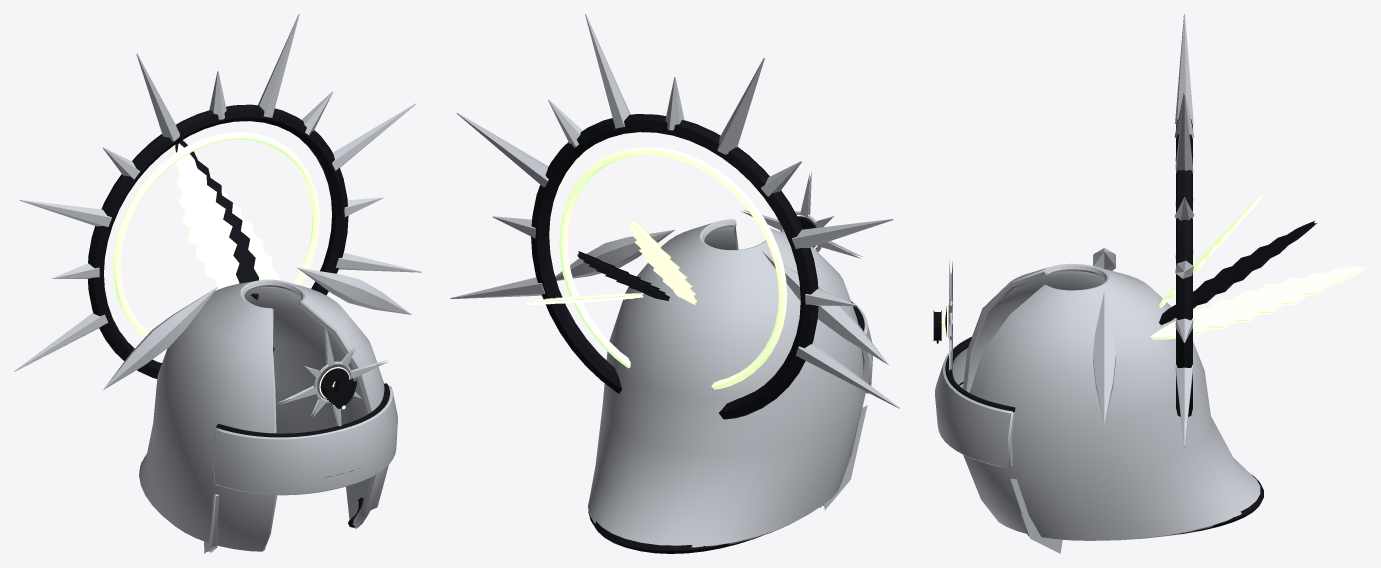
Rendered from esc_endtime_stalker_helm.glb.
The picture shows the model from 3 angles, left to right: view 1: azimuth 30°, elevation 25°; view 2: azimuth 150°, elevation 25°; view 3: azimuth 270°, elevation 25°; orthographic projection. The views are drawn at different scales.
Visible parts, largest first — view 1: esc_endtime_stalker_helm; view 2: esc_endtime_stalker_helm; view 3: esc_endtime_stalker_helm.
Part boxes in pixels (bbox=[...]): esc_endtime_stalker_helm: bbox=[14, 14, 421, 553]; esc_endtime_stalker_helm: bbox=[450, 14, 899, 553]; esc_endtime_stalker_helm: bbox=[928, 14, 1366, 553].
Size of the model in its own units: 0.7147 by 0.7661 by 0.6576.
